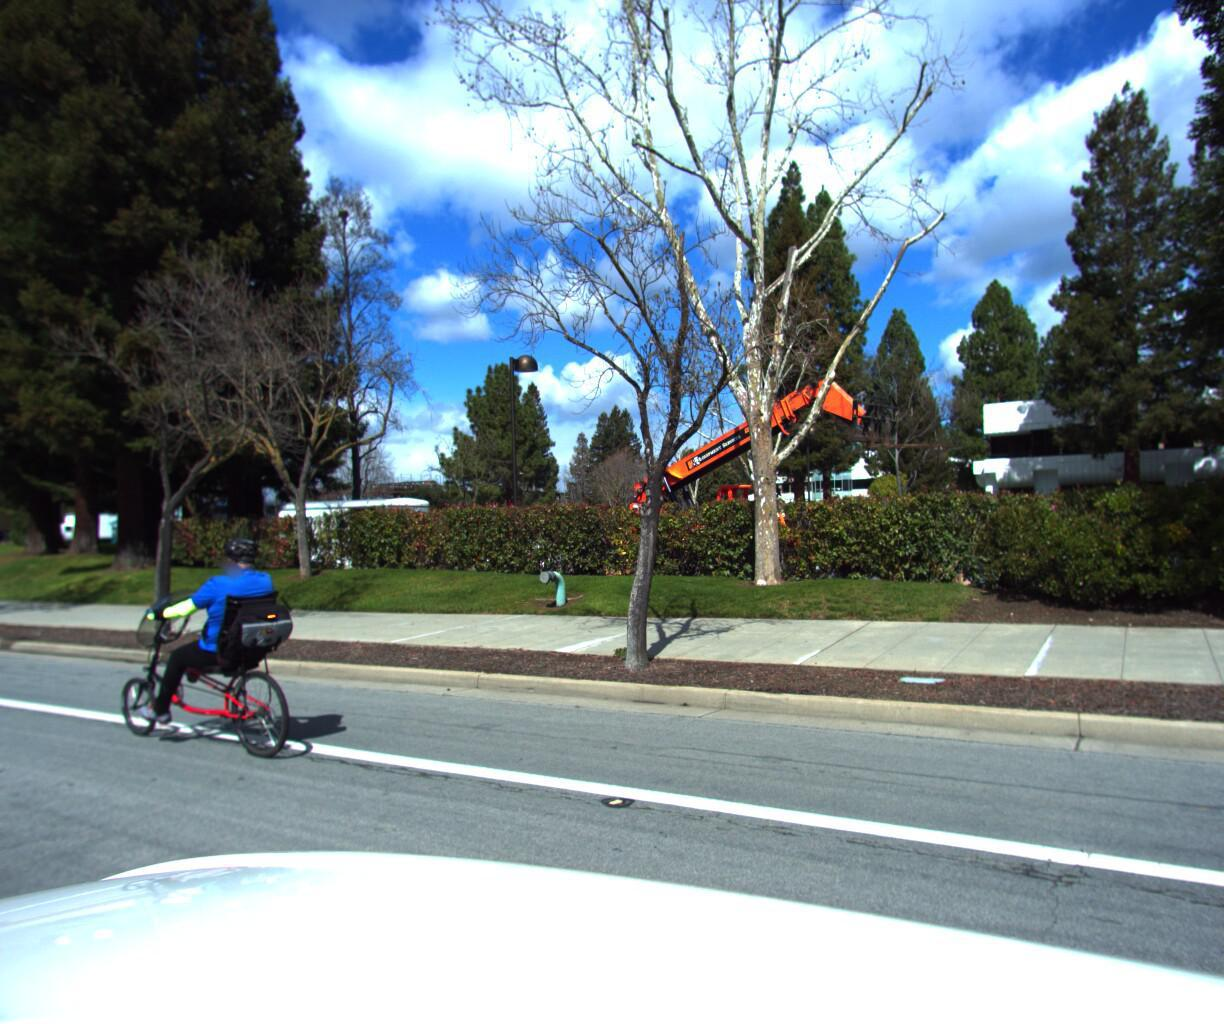bicycle: (78, 528, 346, 779)
